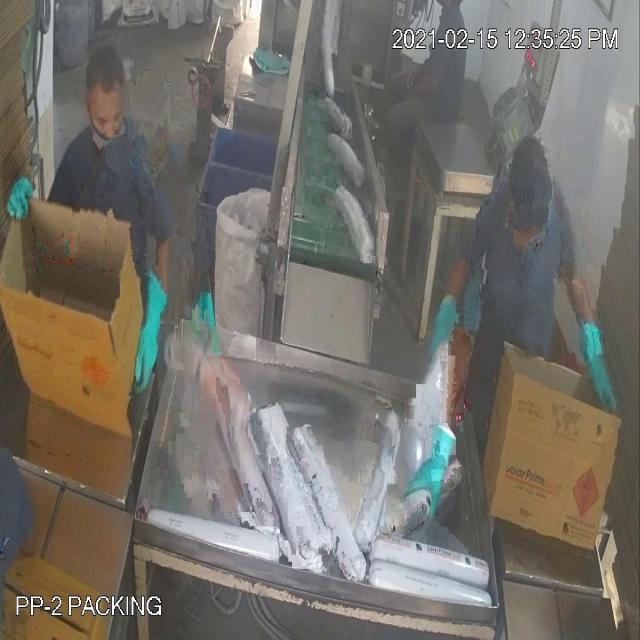gloves: (117, 259, 169, 407), (396, 420, 460, 528), (572, 314, 621, 420)
